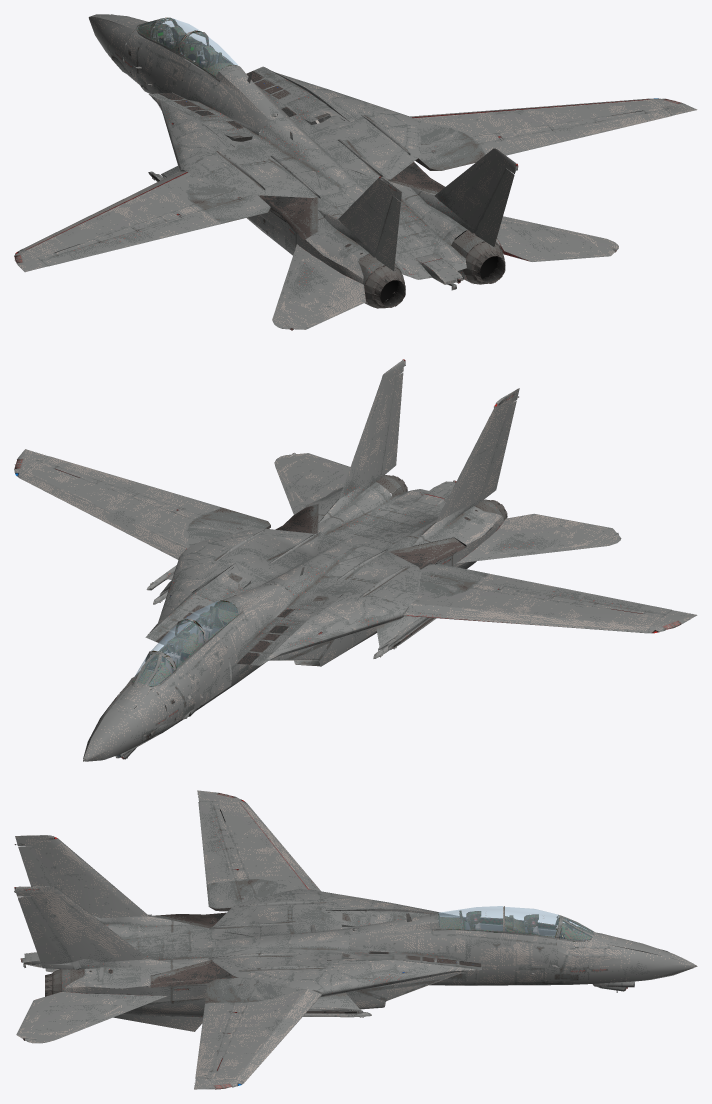
File: f14_tomcat.glb
3 renders of one model, top to bottom at view 1: azimuth 30°, elevation 25°; view 2: azimuth 150°, elevation 25°; view 3: azimuth 270°, elevation 25°, orthographic. The views are drawn at different scales.
Visible parts, largest first — view 1: f14a-airframe_0, f14a-canopyFr_1, f14a-cockpit_2; view 2: f14a-airframe_0, f14a-canopyFr_1, f14a-cockpit_2; view 3: f14a-airframe_0, f14a-canopyFr_1, f14a-cockpit_2.
Part boxes in pixels (x1,y1,x2,y2): f14a-airframe_0: (14, 14, 697, 330); f14a-canopyFr_1: (137, 18, 238, 76); f14a-cockpit_2: (137, 17, 237, 80); f14a-airframe_0: (14, 359, 697, 761); f14a-canopyFr_1: (133, 601, 238, 686); f14a-cockpit_2: (133, 600, 238, 694); f14a-airframe_0: (14, 790, 697, 1089); f14a-canopyFr_1: (438, 906, 592, 940); f14a-cockpit_2: (438, 909, 593, 947).
Bounding box in the file's own units: 10.68 × 2.48 × 10.31.
4 materials, 2 textured.
